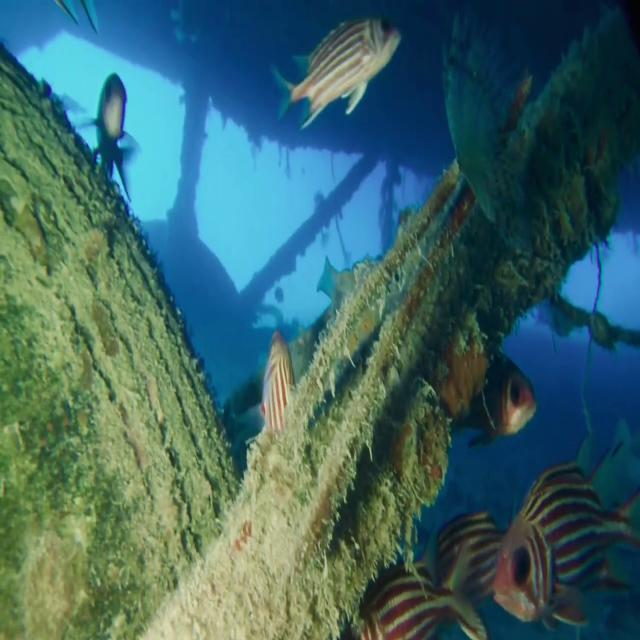Asker Baligi: (487, 457, 638, 627), (270, 14, 402, 132)
